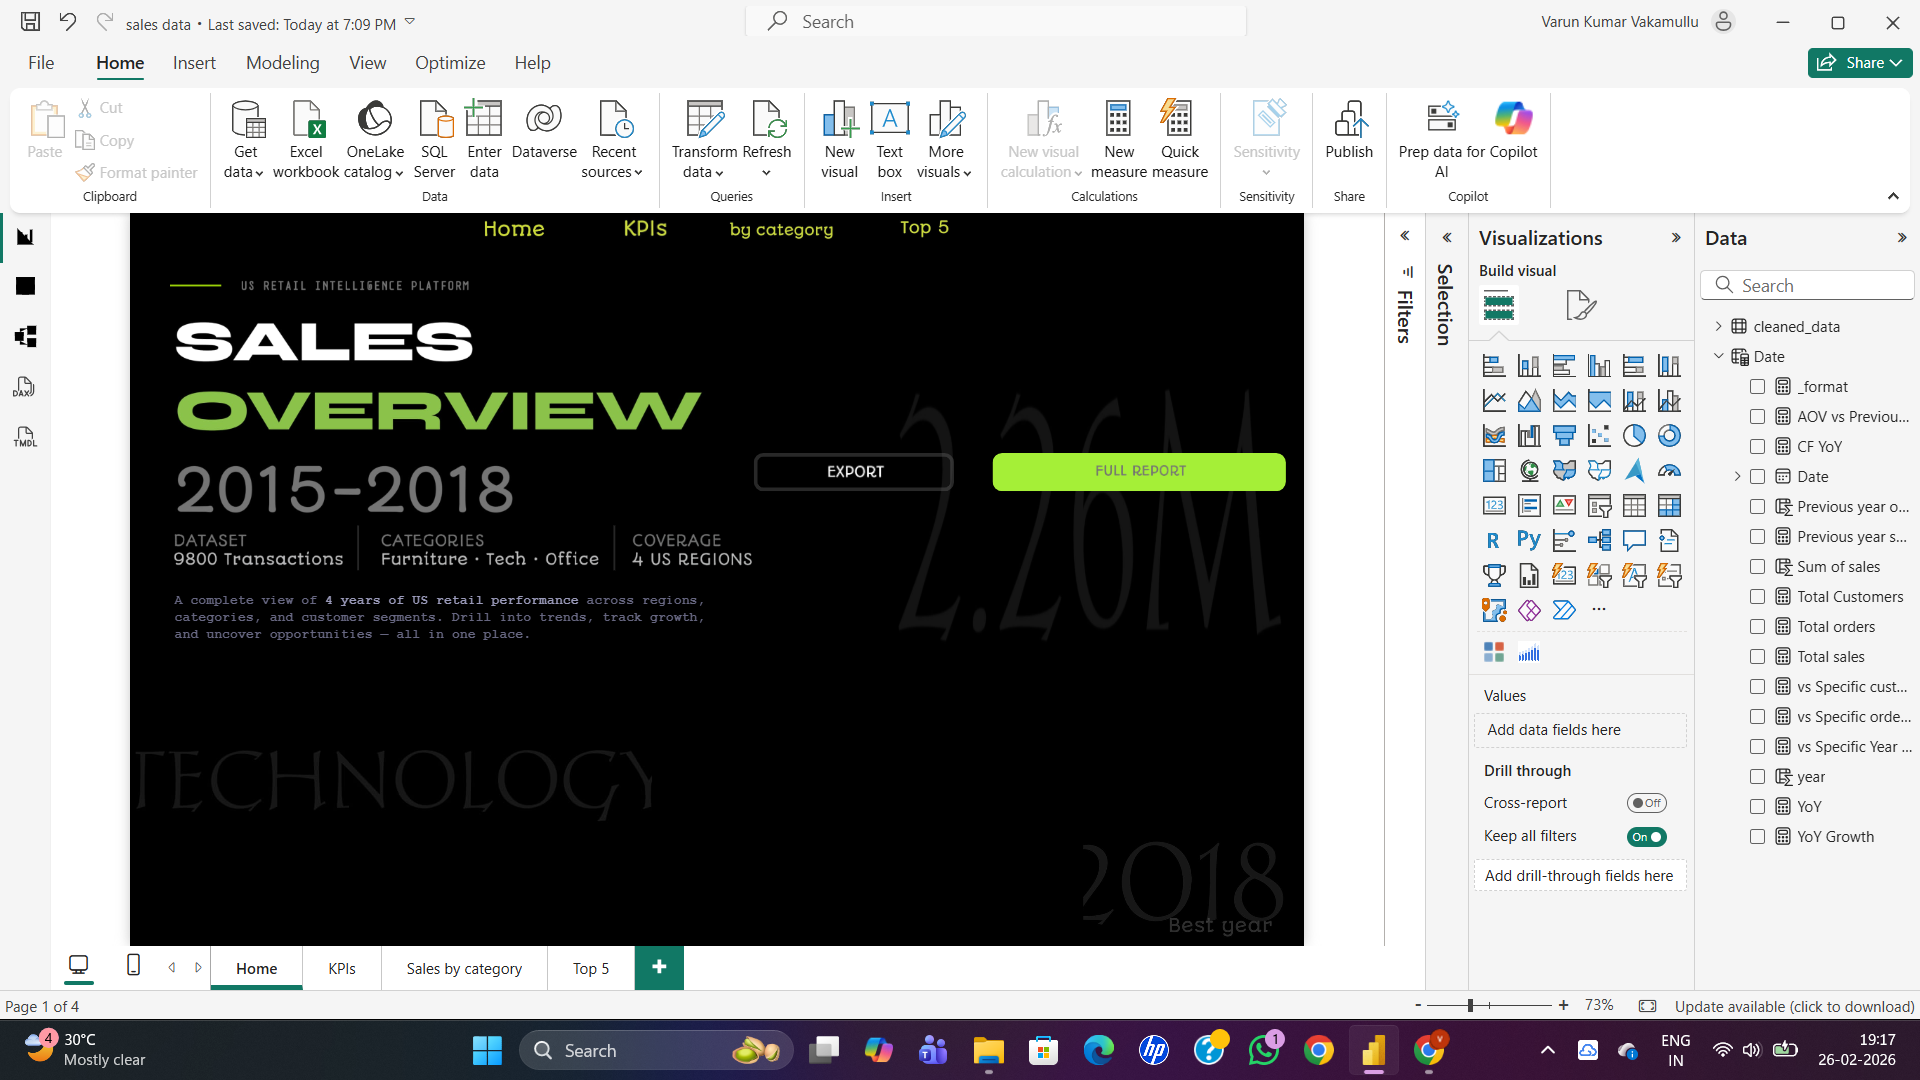

The page's visual inventory and layout, read from the dashboard file:
{"tool":"powerbi","page":{"name":"Home","canvas":[1280,800],"ordinal":0},"visuals":[{"type":"image","box":[0,79.1,655.8,272.7],"z":0},{"type":"shape","box":[43.6,54.5,66.8,49.1],"z":1000},{"type":"image","box":[76.3,50.4,344.9,60],"z":2000},{"type":"image","box":[1.4,103.6,388.6,399.5],"z":3000},{"type":"image","box":[227.7,103.6,388.6,399.5],"z":4000},{"type":"image","box":[501.7,103.6,388.6,399.5],"z":5000},{"type":"shape","box":[186.8,340.8,124.1,49.1],"z":6000},{"type":"shape","box":[466.3,340.8,124.1,49.1],"z":7000},{"type":"image","box":[789.4,170.4,490.8,317.7],"z":8000},{"type":"textbox","box":[43.1,407.7,602.4,80.7],"z":9000},{"type":"shape","box":[680.3,261.6,218.4,41.7],"z":10000},{"type":"shape","box":[940.5,261.6,320,41.7],"z":11000},{"type":"image","box":[1034.8,661.2,245.4,139.1],"z":12000},{"type":"image","box":[1.4,559,572.6,125.4],"z":13000},{"type":"image","box":[681.7,261.6,214.3,41.7],"z":13001},{"type":"image","box":[992.5,264.5,214,34.1],"z":13002},{"type":"image","box":[344.9,0,145.9,35.4],"z":13003},{"type":"image","box":[494.9,0,144.5,35.4],"z":13004},{"type":"image","box":[639.4,0,144.5,35.4],"z":13005},{"type":"image","box":[796.2,0,144.5,35.4],"z":13006}]}

Visuals, with their boxes on the page's 1280x800 design canvas (x1, y1, x2, y2). These are canvas units, not pixel positions in the 1920x1080 screenshot, which may show the page scaled, cropped or inside an application window:
image: bbox(0, 79, 656, 352)
shape: bbox(44, 54, 110, 104)
image: bbox(76, 50, 421, 110)
image: bbox(1, 104, 390, 503)
image: bbox(228, 104, 616, 503)
image: bbox(502, 104, 890, 503)
shape: bbox(187, 341, 311, 390)
shape: bbox(466, 341, 590, 390)
image: bbox(789, 170, 1280, 488)
textbox: bbox(43, 408, 646, 488)
shape: bbox(680, 262, 899, 303)
shape: bbox(940, 262, 1260, 303)
image: bbox(1035, 661, 1280, 800)
image: bbox(1, 559, 574, 684)
image: bbox(682, 262, 896, 303)
image: bbox(992, 264, 1206, 299)
image: bbox(345, 0, 491, 35)
image: bbox(495, 0, 639, 35)
image: bbox(639, 0, 784, 35)
image: bbox(796, 0, 941, 35)
